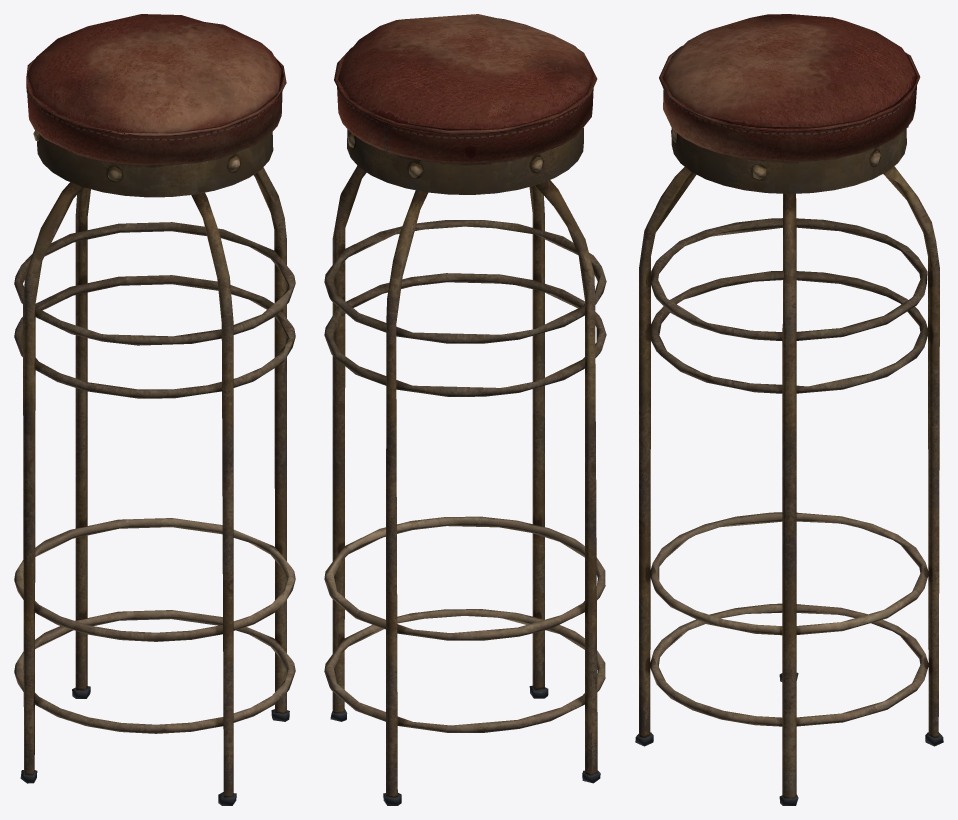
File: metal_stool_01.glb
3 renders of one model, left to right at view 1: azimuth 30°, elevation 25°; view 2: azimuth 150°, elevation 25°; view 3: azimuth 270°, elevation 25°, orthographic.
Visible parts, largest first — view 1: metal_stool_01; view 2: metal_stool_01; view 3: metal_stool_01.
Part boxes in pixels (x1,y1,x2,y2): metal_stool_01: (14,14,295,805); metal_stool_01: (324,14,606,805); metal_stool_01: (635,14,943,805).
Size of the model in its own units: 0.3505 by 0.8824 by 0.3538.
Materials: 1 (1 with a texture image).
